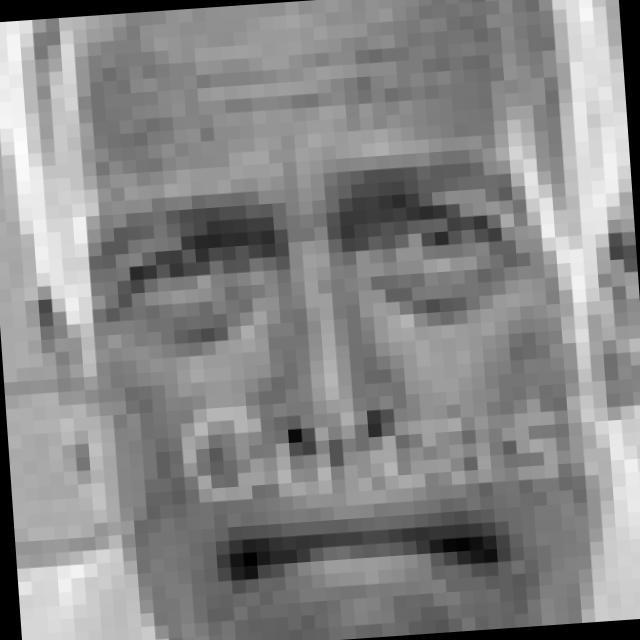fear: (85, 140, 574, 630)
